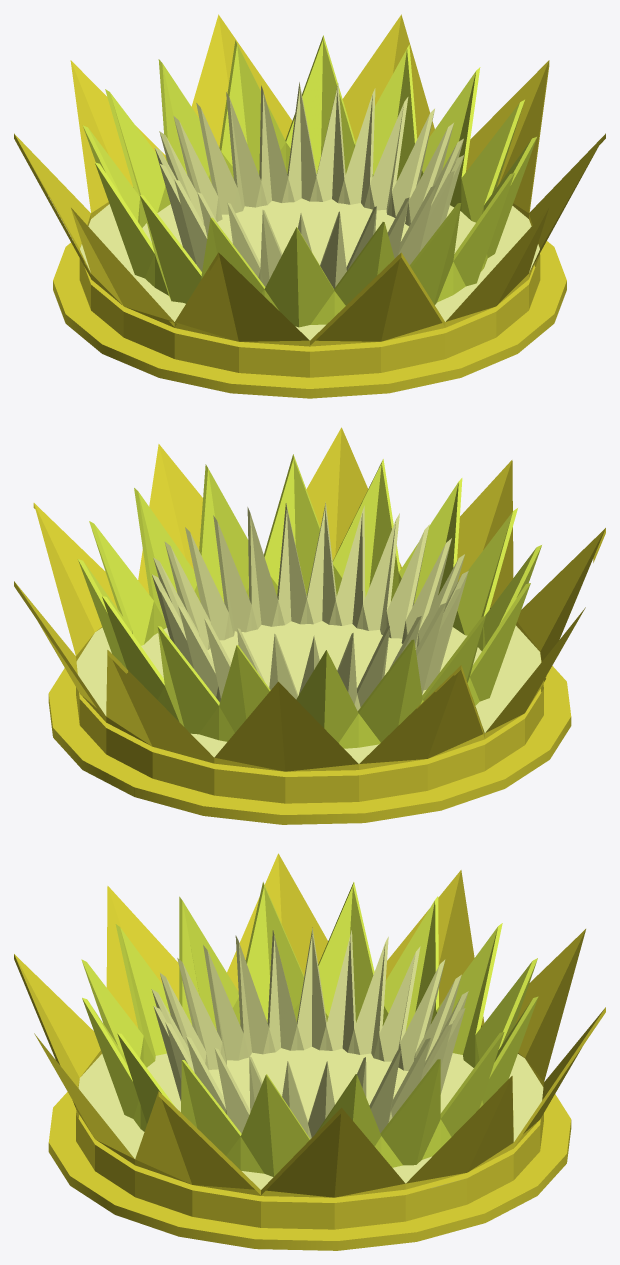
Rendered from portal_abrir_000014.obj.
The picture shows the model from 3 angles, top to bottom: view 1: azimuth 30°, elevation 25°; view 2: azimuth 150°, elevation 25°; view 3: azimuth 270°, elevation 25°; orthographic projection. The views are drawn at different scales.
Parts seen in each view (by area): view 1: pCylinder1, Cylinder, Cylinder.001; view 2: pCylinder1, Cylinder, Cylinder.001; view 3: pCylinder1, Cylinder, Cylinder.001.
Part boxes in pixels (x1,y1,x2,y2): pCylinder1: (14, 14, 605, 398); Cylinder: (82, 35, 536, 327); Cylinder.001: (154, 82, 463, 288); pCylinder1: (14, 427, 605, 824); Cylinder: (78, 454, 541, 748); Cylinder.001: (152, 502, 468, 710); pCylinder1: (14, 853, 605, 1250); Cylinder: (81, 882, 538, 1176); Cylinder.001: (151, 927, 468, 1138).
Size of the model in its own units: 2.86 by 0.8545 by 2.82.
4 materials, 4 textured.
